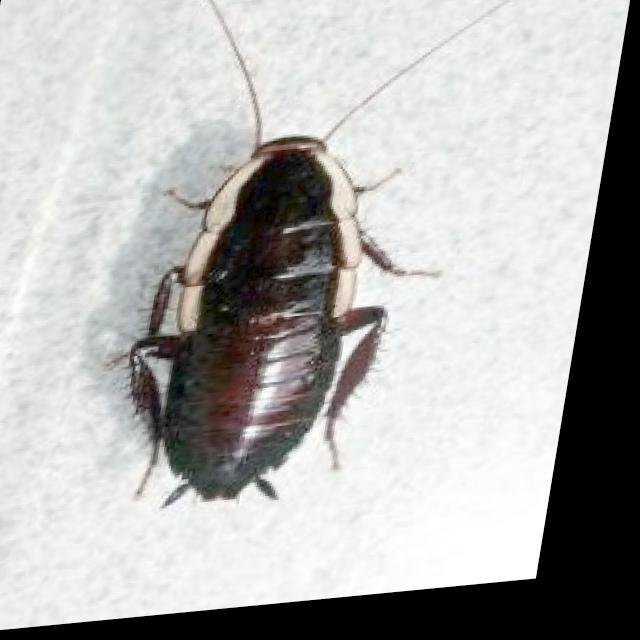cockroach: (93, 53, 437, 536)
